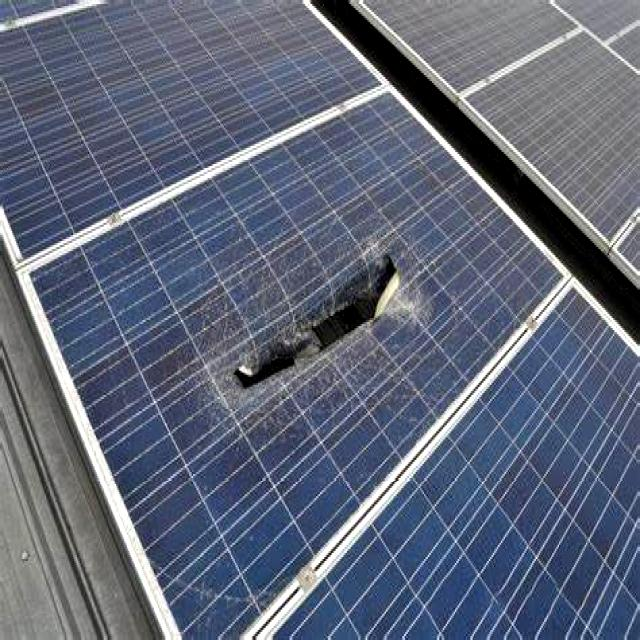hotspot: (180, 248, 440, 396)
